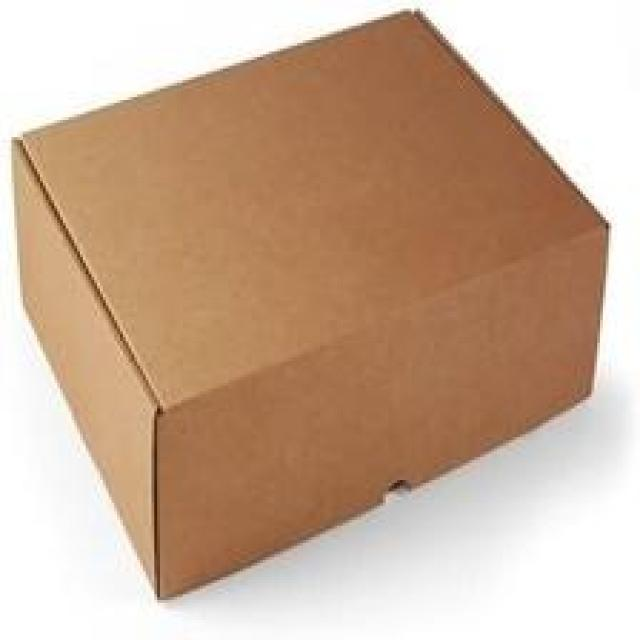box: (8, 8, 610, 600)
